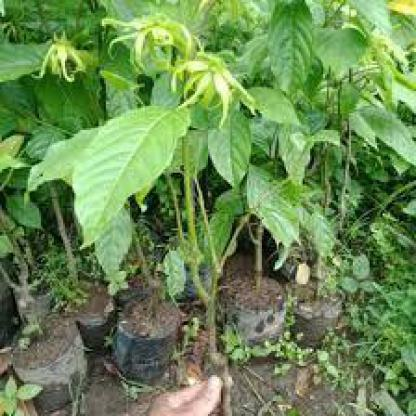Kenanga: (107, 11, 248, 102), (36, 31, 79, 79)
